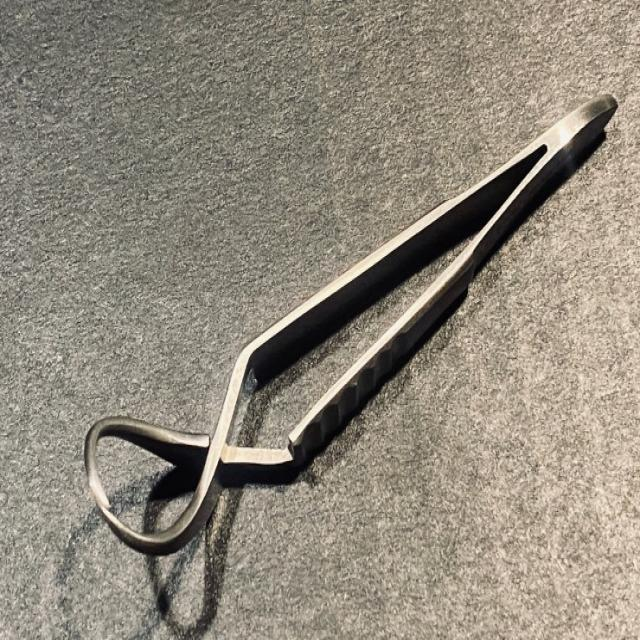Jones Towel Clamp: (74, 79, 622, 562)
